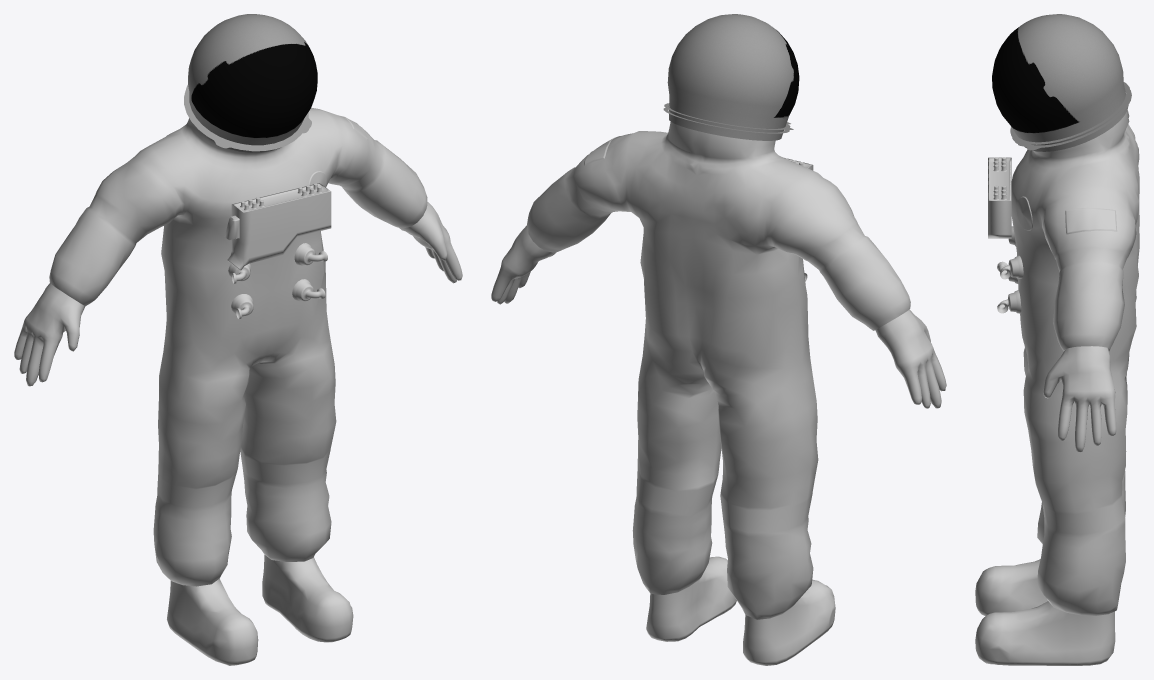
The model's file is astro.fbx.
The picture shows the model from 3 angles, left to right: view 1: azimuth 30°, elevation 25°; view 2: azimuth 150°, elevation 25°; view 3: azimuth 270°, elevation 25°; orthographic projection.
Visible parts, largest first — view 1: Astro; view 2: Astro; view 3: Astro.
Part boxes in pixels (x1,y1,x2,y2): Astro: (14, 14, 462, 665); Astro: (491, 14, 946, 665); Astro: (975, 14, 1139, 665).
Bounding box in the file's own units: 850 × 1146 × 278.
